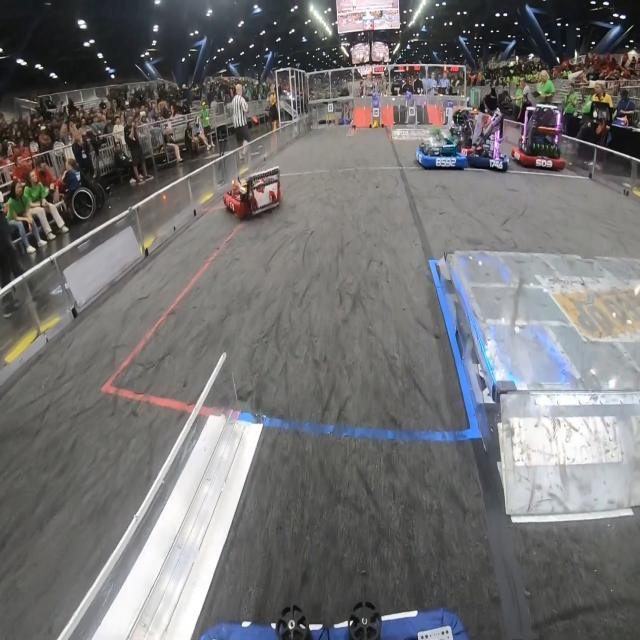robot: (512, 103, 566, 170), (224, 164, 281, 222), (416, 106, 466, 172), (467, 108, 511, 173)
